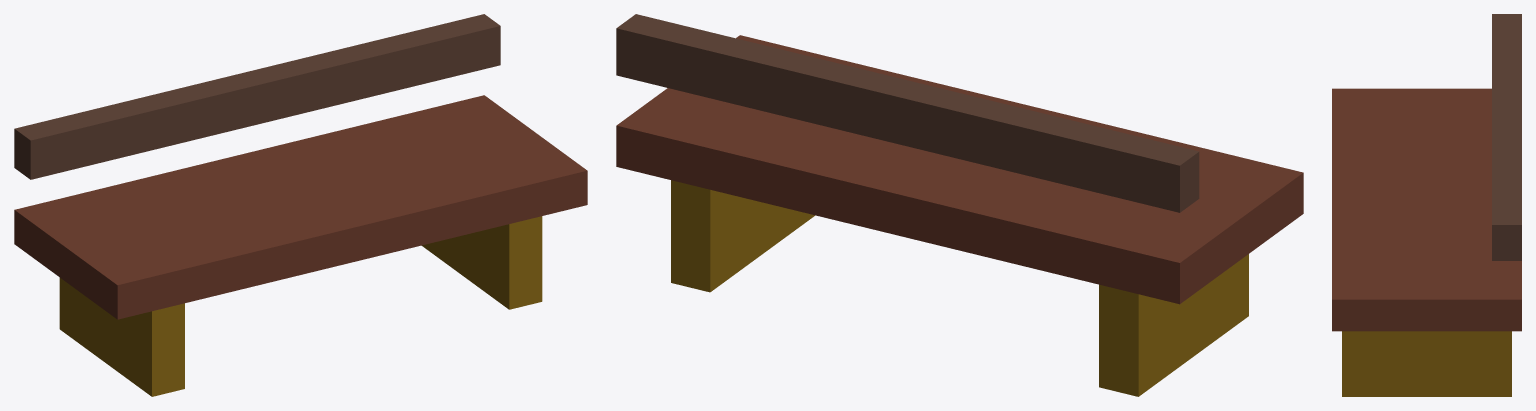
File: bench.glb
3 views of the same model, side by side, from view 1: azimuth 30°, elevation 25°; view 2: azimuth 150°, elevation 25°; view 3: azimuth 270°, elevation 25° (orthographic). The views are drawn at different scales.
Parts seen in each view (by area): view 1: bench; view 2: bench; view 3: bench.
Boxes of the visible parts, x1,y1,x2,y2 form: bench: [14, 14, 587, 396]; bench: [616, 14, 1303, 396]; bench: [1332, 14, 1521, 396].
Bounding box in the file's own units: 1 × 0.42 × 0.38.
